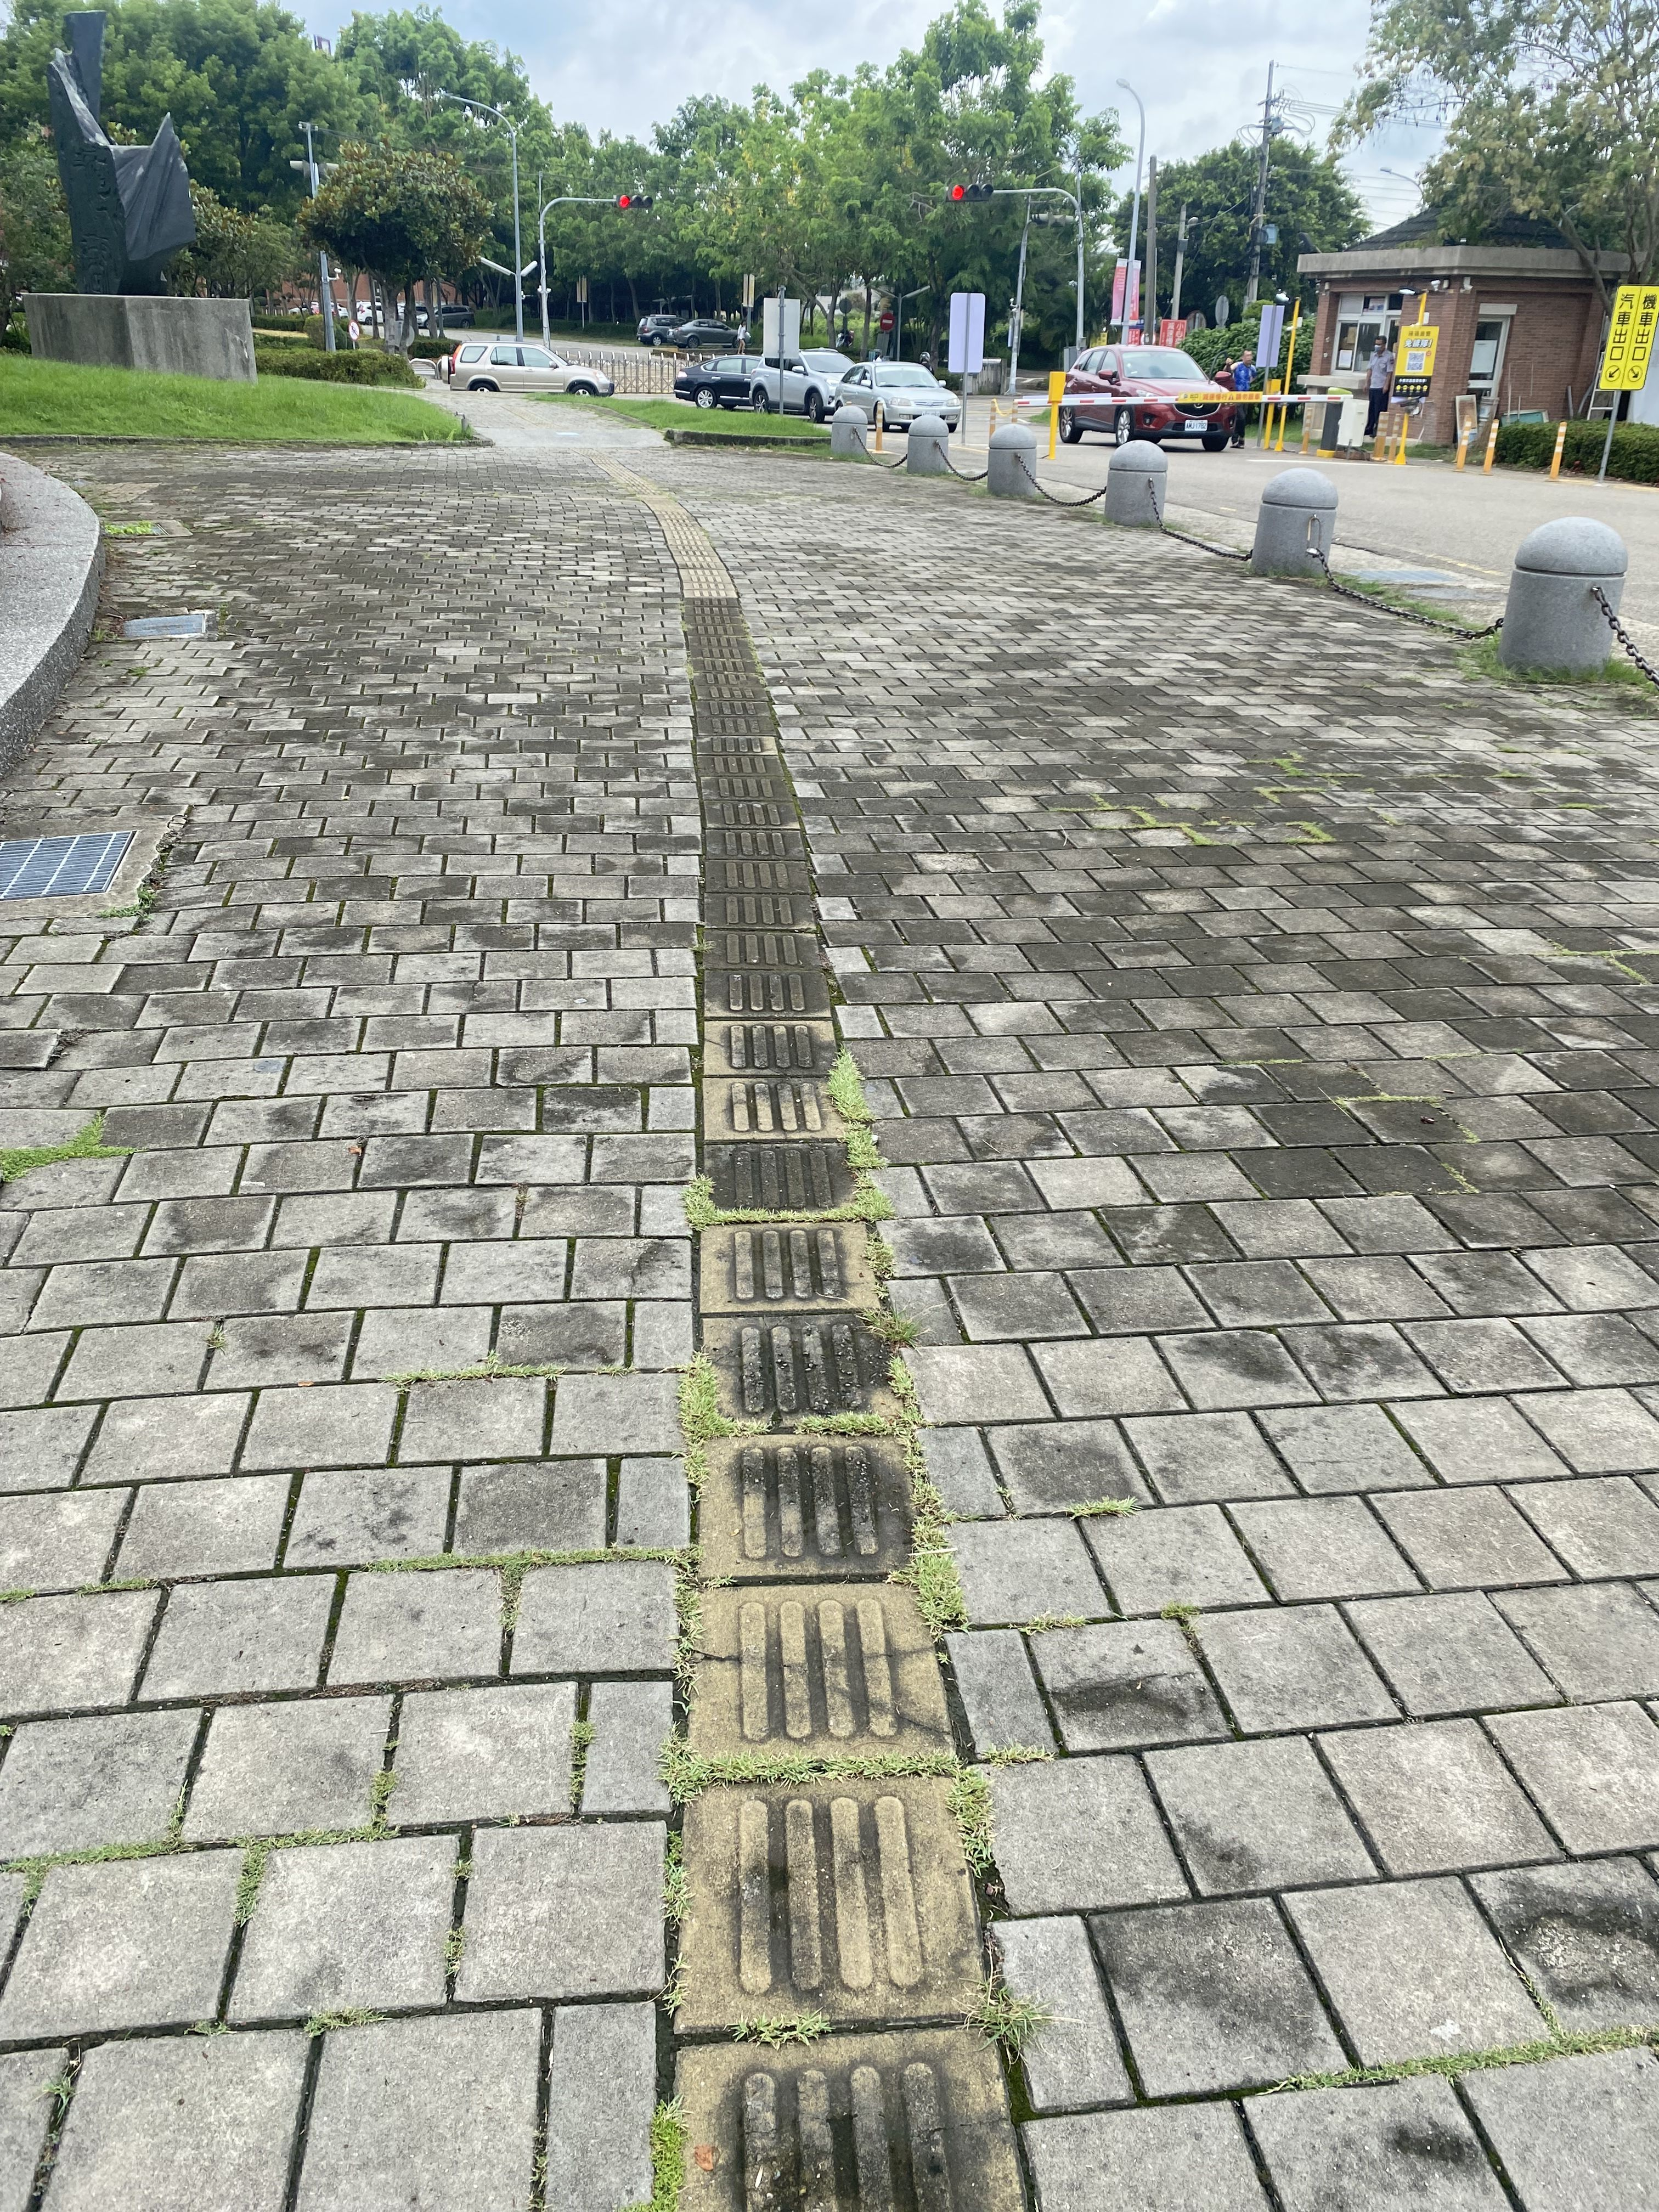sidewalk: (7, 437, 1659, 2212)
